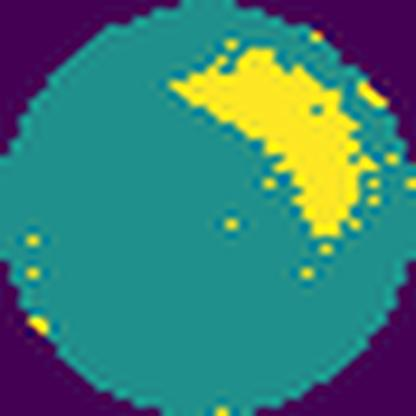Loc: (167, 47, 380, 239)
